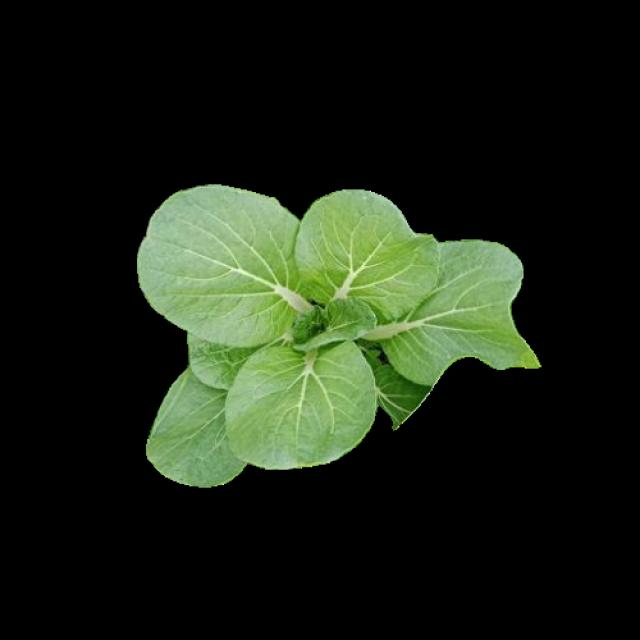healthy: (135, 190, 532, 488)
mature: (140, 187, 534, 485)
